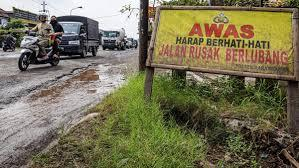Pothole: (0, 56, 120, 146)
